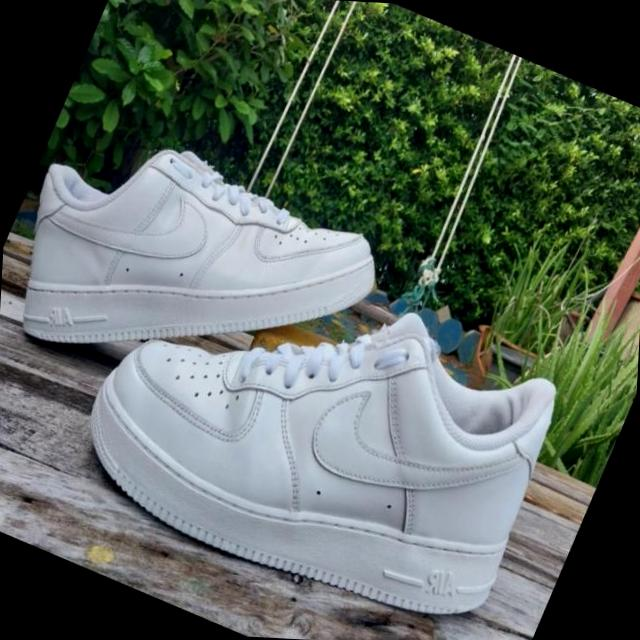nike_original_airforce: (48, 211, 586, 640), (0, 97, 403, 463)
